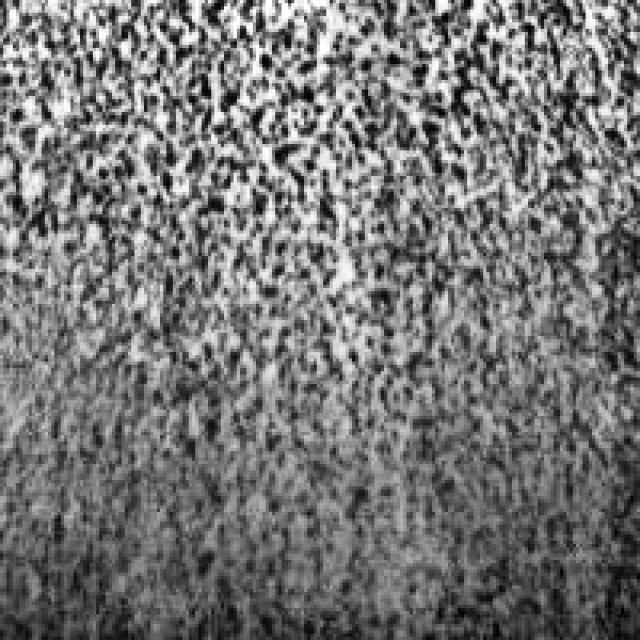Rolled_in_Scale: (13, 0, 640, 445)
